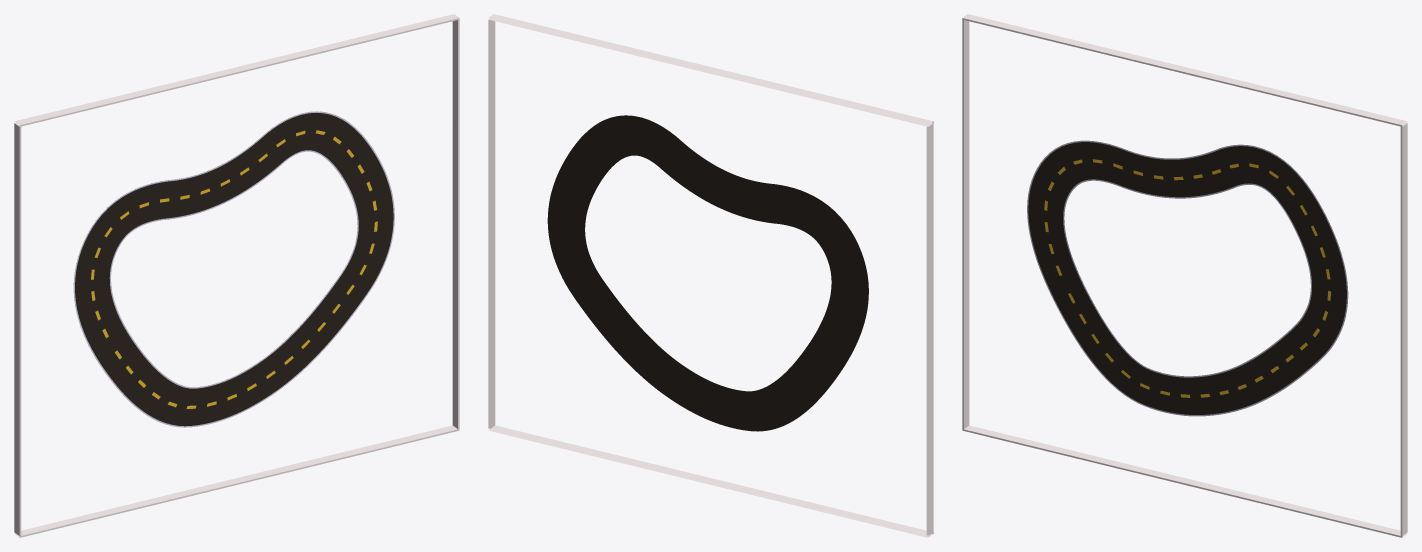
File: track.obj
3 renders of one model, left to right at view 1: azimuth 30°, elevation 25°; view 2: azimuth 150°, elevation 25°; view 3: azimuth 330°, elevation 25°, orthographic.
Bounding box in the file's own units: 14.02 × 12.56 × 0.3.
Materials: 4 (4 with a texture image).
